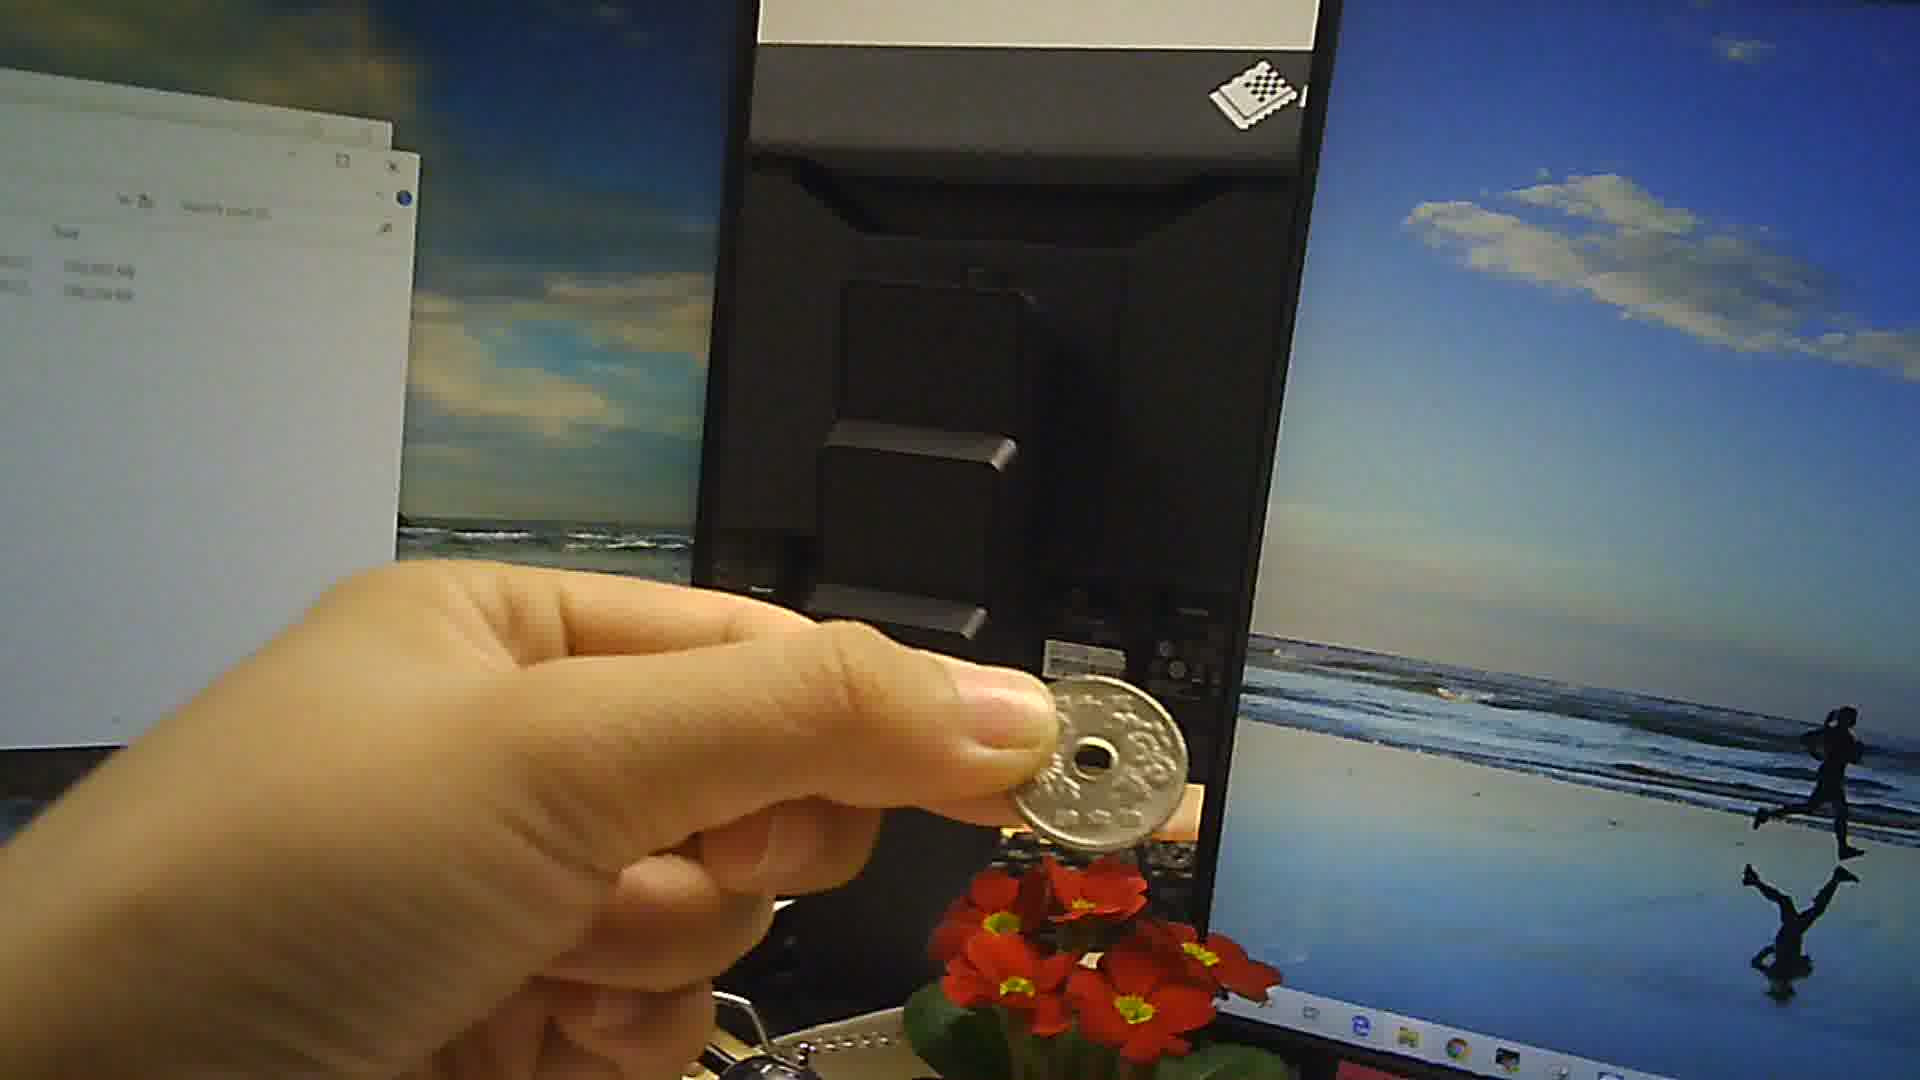50 Yen: (1000, 662, 1188, 848)
